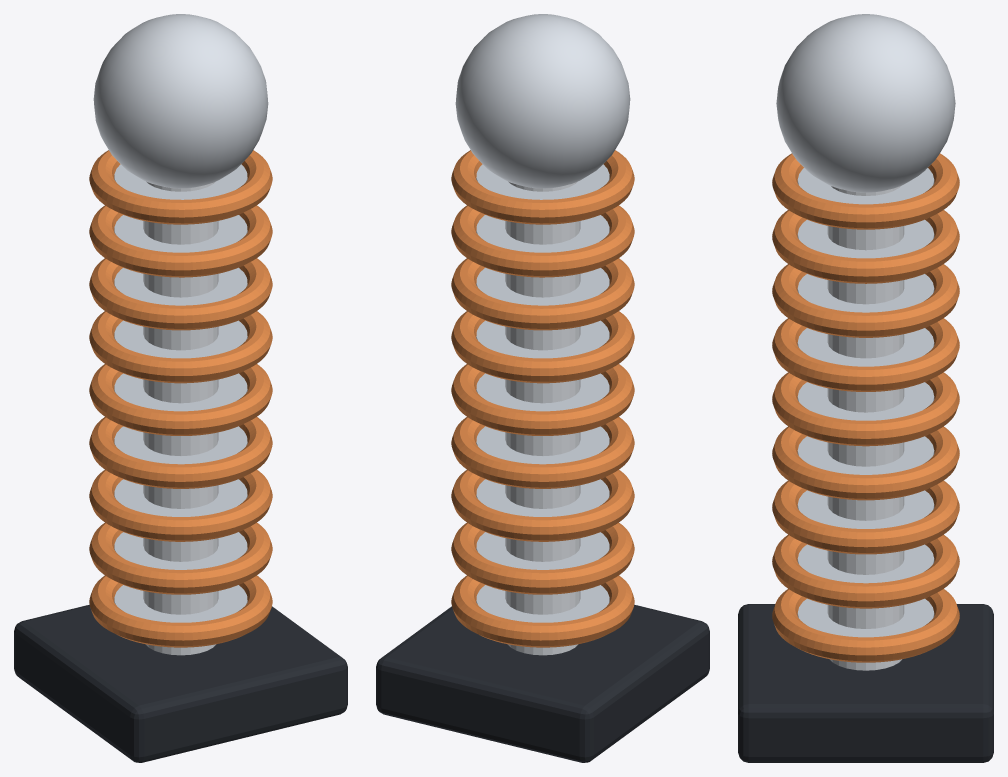
File: generador_rayos.glb
3 views of the same model, side by side, from view 1: azimuth 30°, elevation 25°; view 2: azimuth 150°, elevation 25°; view 3: azimuth 270°, elevation 25° (orthographic). The views are drawn at different scales.
Visible parts, largest first — view 1: Cube, bola, Cylinder, Torus.015, Torus.007, Torus.014, Torus.013, Torus.008, Torus.012, Torus.009, Torus.010, Torus.011 (+9 smaller); view 2: Cube, bola, Cylinder, Torus.015, Torus.007, Torus.014, Torus.013, Torus.008, Torus.012, Torus.009, Torus.010, Torus.011 (+9 smaller); view 3: Cube, bola, Cylinder, Torus.010, Torus.008, Torus.011, Torus.012, Torus.015, Torus.009, Torus.013, Torus.014, Torus.007 (+9 smaller).
Boxes of the visible parts, x1,y1,x2,y2 form: Cube: (14,604,347,762); bola: (93,14,268,188); Cylinder: (143,181,218,655); Torus.015: (89,150,272,224); Torus.007: (89,575,272,647); Torus.014: (89,205,272,277); Torus.013: (89,258,272,330); Torus.008: (89,522,272,594); Torus.012: (89,311,272,383); Torus.009: (89,470,272,541); Torus.010: (89,417,272,488); Torus.011: (89,364,272,435); Cube: (376,604,709,762); bola: (455,14,630,188); Cylinder: (505,181,580,655); Torus.015: (451,150,634,224); Torus.007: (451,575,634,647); Torus.014: (451,205,634,277); Torus.013: (451,258,634,330); Torus.008: (451,522,634,594); Torus.012: (451,311,634,383); Torus.009: (451,470,634,541); Torus.010: (451,417,634,488); Torus.011: (451,364,634,435); Cube: (738,604,993,762); bola: (776,14,955,192); Cylinder: (827,186,904,670); Torus.010: (772,426,959,500); Torus.008: (772,534,959,608); Torus.011: (772,372,959,446); Torus.012: (772,318,959,391); Torus.015: (772,153,959,229); Torus.009: (772,480,959,554); Torus.013: (772,264,959,337); Torus.014: (772,210,959,283); Torus.007: (772,589,959,662).
Size of the model in its own units: 1.2 by 3.57 by 1.2.
